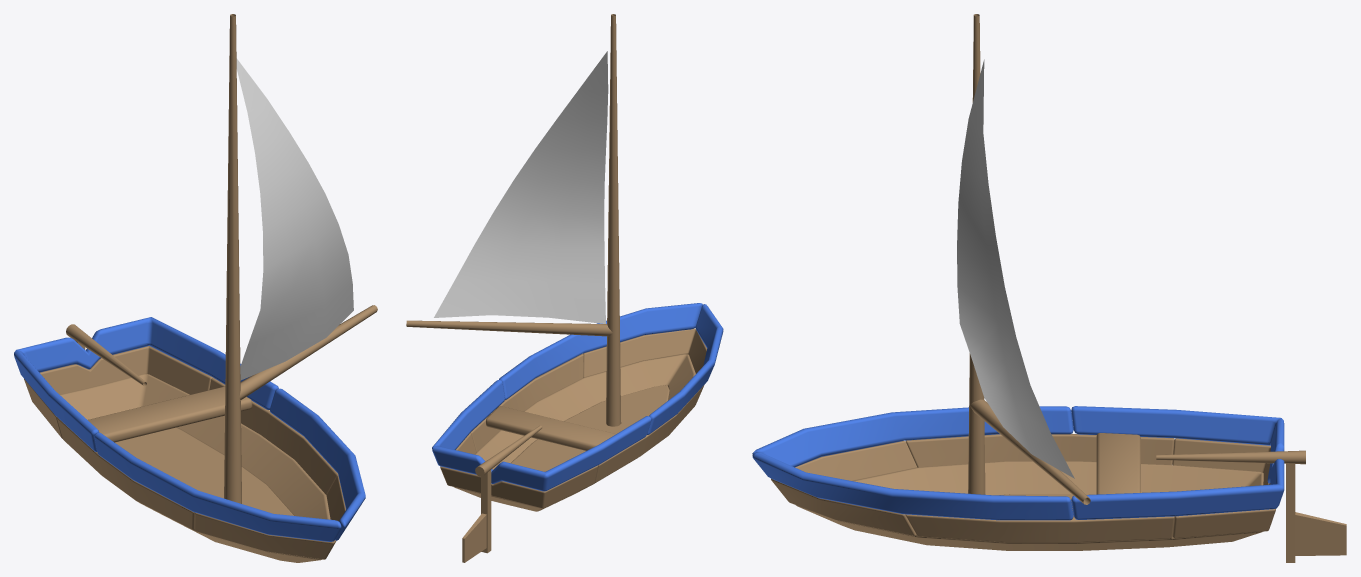
The model's file is boat.glb.
3 views of the same model, side by side, from view 1: azimuth 30°, elevation 25°; view 2: azimuth 150°, elevation 25°; view 3: azimuth 270°, elevation 25° (orthographic). The views are drawn at different scales.
Parts seen in each view (by area): view 1: Plane.001, Plane, Plane.006, Plane.005, Vert, Boat, Plane.007, Circle; view 2: Plane.001, Plane, Plane.006, Vert, Plane.005, Boat, Plane.007, Plane.003, Plane.002, Circle; view 3: Plane, Plane.006, Plane.001, Plane.005, Vert, Plane.007, Plane.003, Circle, Plane.002.
Boxes of the visible parts, x1,y1,x2,y2 form: Plane.001: (236, 58, 353, 380); Plane: (14, 317, 365, 541); Plane.006: (24, 346, 345, 559); Plane.005: (60, 374, 330, 562); Vert: (224, 14, 377, 503); Boat: (115, 427, 293, 515); Plane.007: (88, 386, 252, 442); Circle: (66, 324, 146, 386); Plane.001: (434, 51, 608, 323); Plane: (432, 303, 723, 491); Plane.006: (440, 328, 706, 508); Vert: (406, 14, 621, 426); Plane.005: (454, 354, 695, 511); Boat: (511, 385, 669, 471); Plane.007: (486, 406, 615, 450); Plane.003: (462, 513, 486, 562); Plane.002: (481, 470, 491, 553); Circle: (475, 425, 542, 476); Plane: (752, 406, 1284, 520); Plane.006: (771, 434, 1275, 542); Plane.001: (957, 59, 1074, 478); Plane.005: (796, 461, 1263, 550); Vert: (968, 14, 1090, 504); Plane.007: (1096, 433, 1140, 494); Plane.003: (1295, 512, 1346, 555); Circle: (1156, 450, 1305, 464); Plane.002: (1286, 463, 1295, 562).
Bounding box in the file's own units: 4.37 × 7.67 × 7.57.
